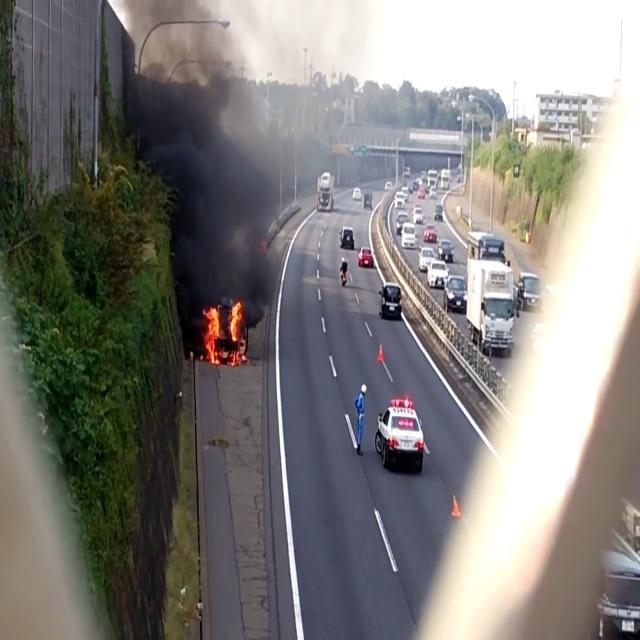Fire: (200, 294, 247, 364)
Smoke: (111, 0, 279, 293)
